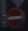No entry: (6, 6, 23, 26)
